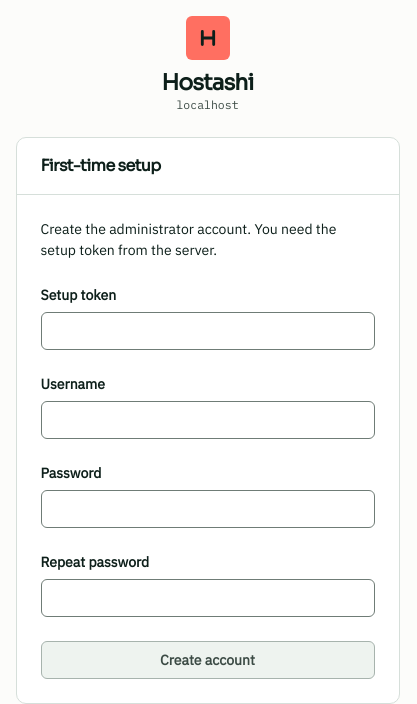
it: Setup › shows server errors
The width and height of the screenshot is (417, 704).
Type "t" into the field labelled "Setup token" at (208, 331), box [40,312,374,350]
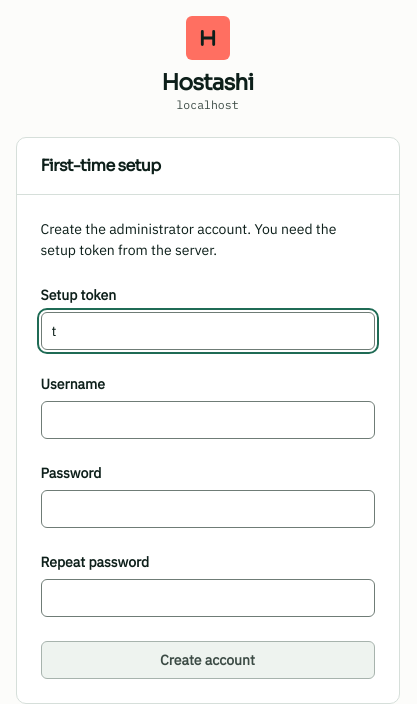
Type "kim" into the field labelled "Username" at (208, 420), box [40,401,374,439]
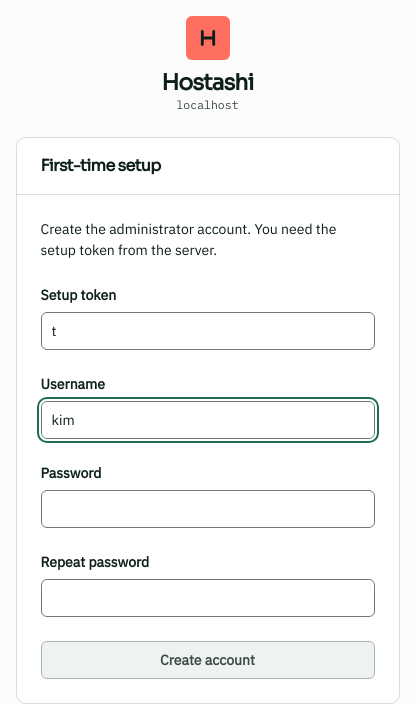
Type "short" into the password field labelled "Password" at (208, 509), box [40,490,374,528]
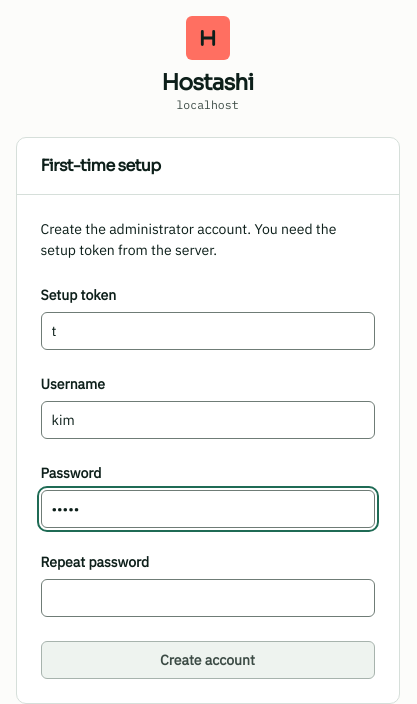
Type "short" into the password field labelled "Repeat password" at (208, 598), box [40,579,374,617]
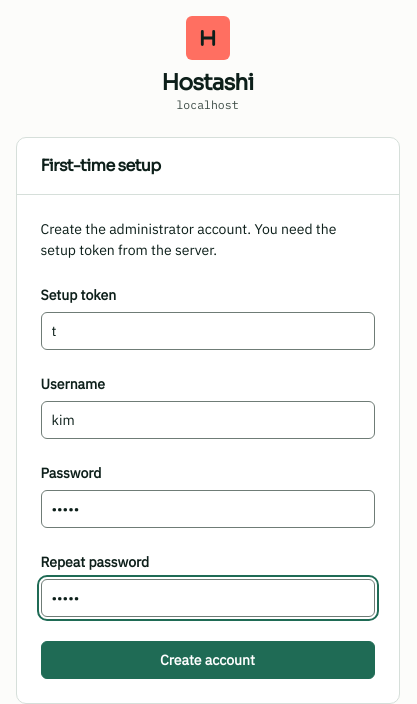
Click the button "Create account" at (208, 660), box [40,641,374,679]
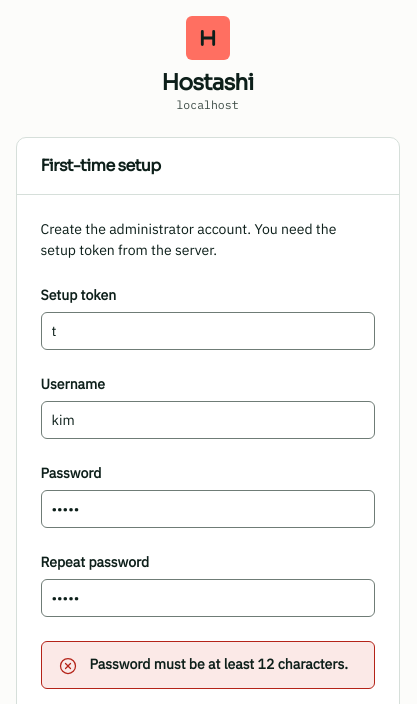
Check: the message reads "Password must be at least 12 characters.", box [90,655,348,673]
